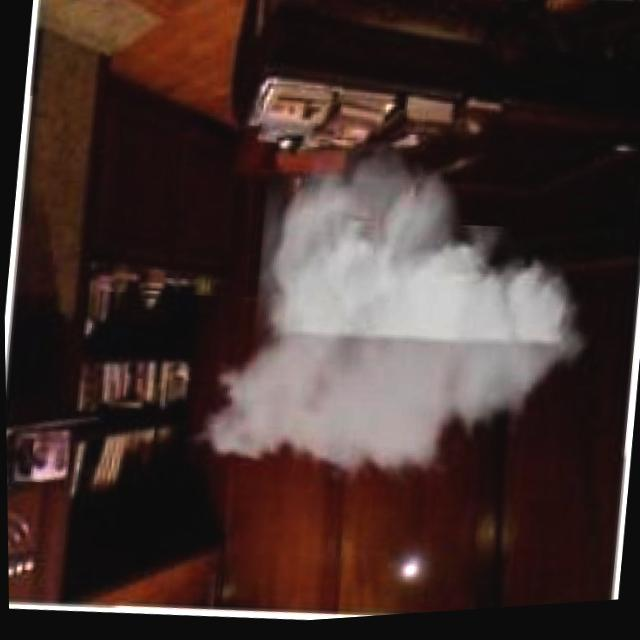no_helmet: (172, 115, 619, 526)
